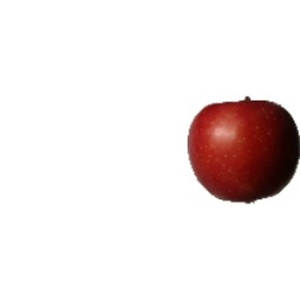maçã braeburn: (185, 93, 299, 209)
